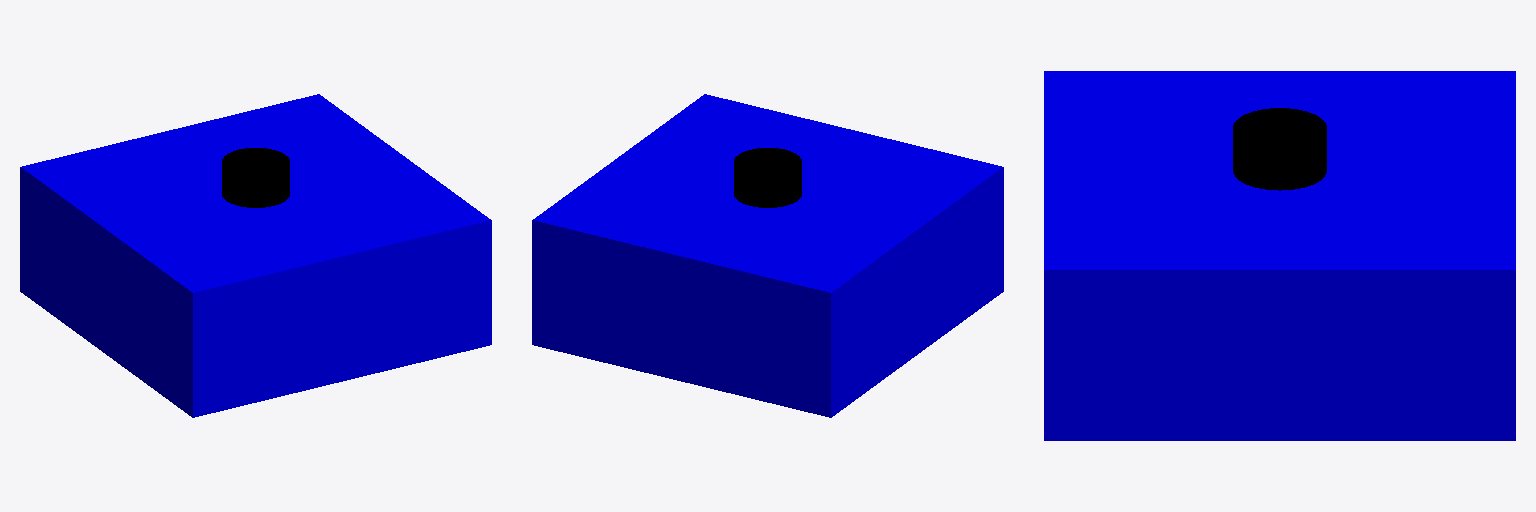
URDF robot description (my_robot):
<?xml version="1.0"?>
<robot name="my_robot">
    <link name="base_link">
        <visual>
            <geometry>
                <box size="0.5 0.5 0.2"/>
            </geometry>
            <material name="blue">
                <color rgba="0 0 1 1"/>
            </material>
        </visual>
        <collision>
            <geometry>
                <box size="0.5 0.5 0.2"/>
            </geometry>
        </collision>
    </link>

    <link name="lidar_link">
        <visual>
            <geometry>
                <cylinder length="0.1" radius="0.05"/>
            </geometry>
            <material name="black">
                <color rgba="0 0 0 1"/>
            </material>
        </visual>
        <collision>
            <geometry>
                <cylinder length="0.1" radius="0.05"/>
            </geometry>
        </collision>
    </link>

    <joint name="base_to_lidar" type="fixed">
        <parent link="base_link"/>
        <child link="lidar_link"/>
        <origin xyz="0 0 0.1" rpy="0 0 0"/>
    </joint>

    <gazebo>
        <plugin name="gazebo_ros_control" filename="libgazebo_ros_control.so"/>
    </gazebo>
</robot>

--- Facts derived from the render (not from the file) ---
3 views of the same robot in one strip: view 1: azimuth 30°, elevation 25°; view 2: azimuth 150°, elevation 25°; view 3: azimuth 270°, elevation 25° (orthographic).
Model my_robot with 2 links and 1 joints (1 fixed), rooted at base_link, posed every joint at zero.
Links seen in each view (by area): view 1: base_link, lidar_link; view 2: base_link, lidar_link; view 3: base_link, lidar_link.
Boxes of the visible links, x1,y1,x2,y2 form: base_link: (20, 94, 491, 417); lidar_link: (222, 148, 289, 207); base_link: (532, 94, 1003, 417); lidar_link: (734, 148, 801, 207); base_link: (1044, 71, 1515, 440); lidar_link: (1233, 108, 1326, 190).
Size in the robot's own frame: 0.5 by 0.5 by 0.25 metres.
Geometry: primitives only (box / cylinder / sphere), no mesh files.